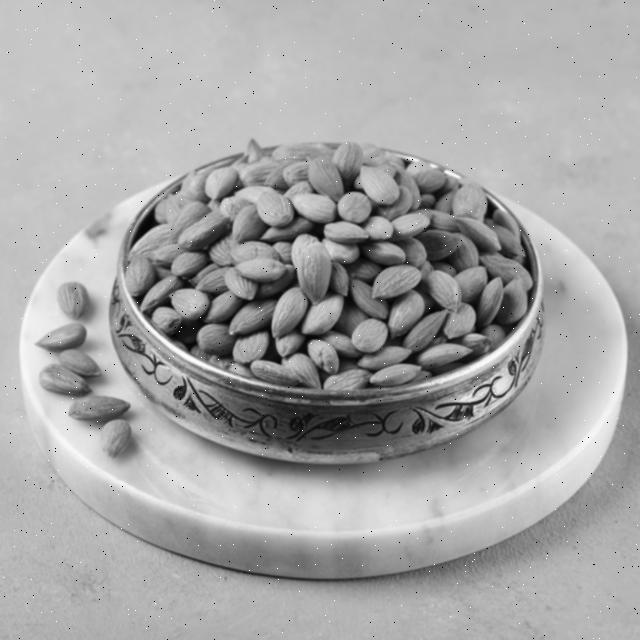Kayisi Cekirdegi: (296, 240, 329, 305), (69, 396, 135, 418), (44, 369, 93, 393), (101, 421, 131, 459), (58, 353, 100, 376)
